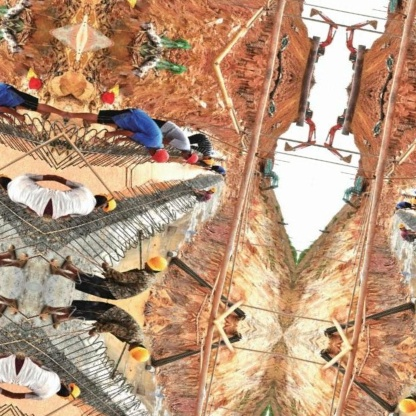red: (148, 147, 173, 167), (181, 151, 201, 169)
yellow: (99, 194, 120, 217), (146, 255, 170, 275), (204, 157, 217, 165), (209, 187, 220, 196)
